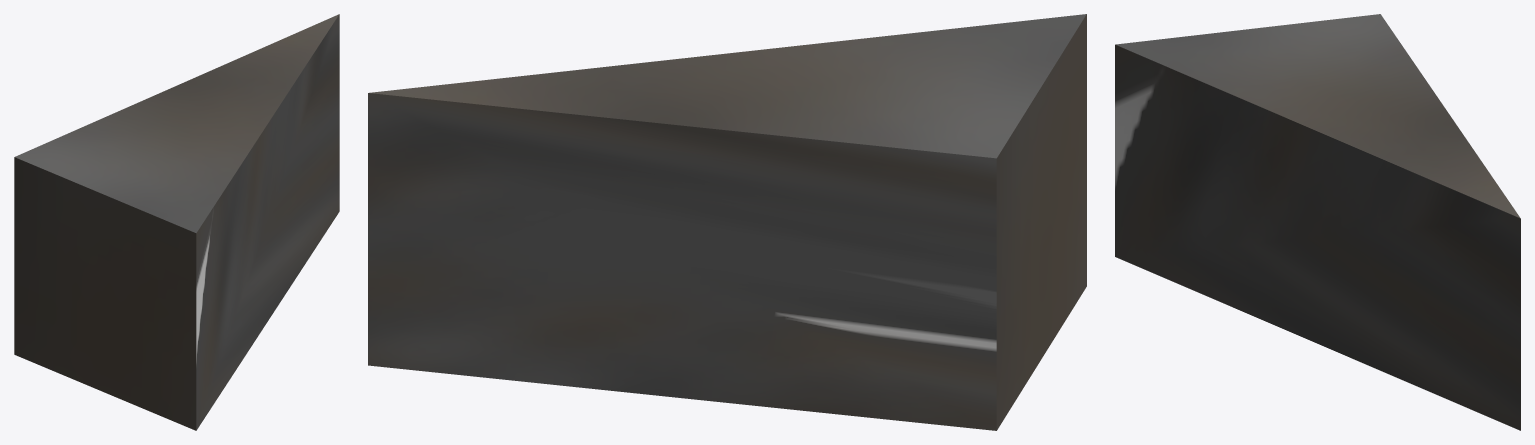
Rendered from ishi_01_7_6.fbx.
3 views of the same model, side by side, from view 1: azimuth 30°, elevation 25°; view 2: azimuth 150°, elevation 25°; view 3: azimuth 270°, elevation 25° (orthographic). The views are drawn at different scales.
Visible parts, largest first — view 1: polySurface12; view 2: polySurface12; view 3: polySurface12.
Part boxes in pixels (box(x1,y1,x2,y2)): polySurface12: box(14, 14, 339, 430); polySurface12: box(368, 14, 1086, 430); polySurface12: box(1115, 14, 1520, 430).
Bounding box in the file's own units: 9.63 × 4.66 × 8.07.
Materials: 1 (1 with a texture image).
